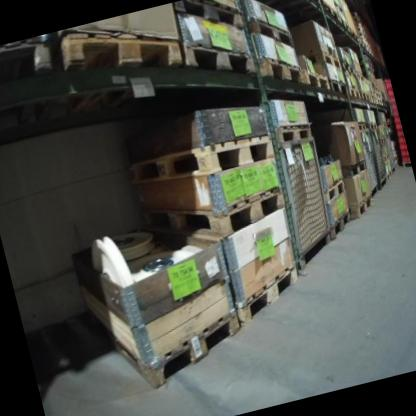pallet: (82, 267, 250, 403), (125, 124, 279, 202), (56, 8, 185, 97), (143, 175, 289, 251), (181, 25, 259, 94), (229, 261, 309, 327), (0, 35, 64, 89), (249, 46, 310, 97), (172, 0, 246, 41), (246, 8, 297, 53), (267, 114, 315, 149), (323, 205, 359, 247), (303, 46, 344, 76), (316, 175, 352, 208), (266, 0, 328, 19), (304, 64, 331, 98), (308, 0, 341, 27), (351, 190, 379, 218), (338, 156, 369, 180), (329, 75, 353, 102), (335, 11, 352, 38), (350, 119, 369, 137), (349, 85, 364, 105), (341, 58, 356, 78), (355, 70, 369, 86), (361, 88, 373, 106), (381, 151, 394, 165), (386, 169, 397, 182), (392, 149, 403, 162), (376, 134, 388, 145), (373, 87, 383, 100), (382, 98, 392, 111), (367, 122, 378, 133), (368, 93, 378, 105), (393, 161, 402, 173), (377, 97, 384, 107)
small_load_carrier: (384, 77, 391, 88), (399, 142, 407, 151), (402, 156, 410, 165), (390, 101, 397, 110), (388, 89, 394, 99), (395, 122, 402, 130), (397, 129, 404, 137), (401, 150, 408, 158), (399, 135, 405, 144), (394, 116, 400, 123), (393, 111, 399, 117)
stillage: (267, 133, 348, 274), (351, 125, 389, 201), (365, 125, 395, 193), (381, 127, 401, 174)
